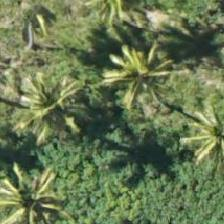coconut_tree: (90, 26, 180, 116), (3, 63, 93, 153), (0, 156, 69, 223)
